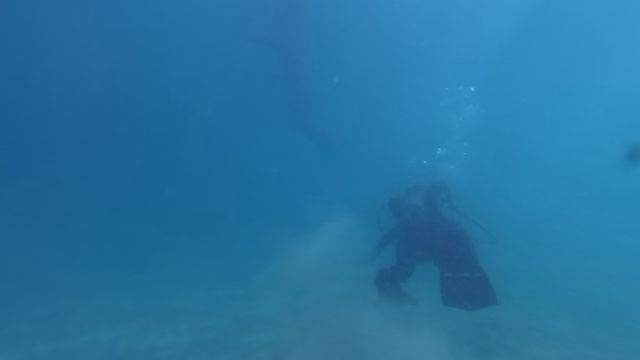Diver: (359, 176, 518, 320)
